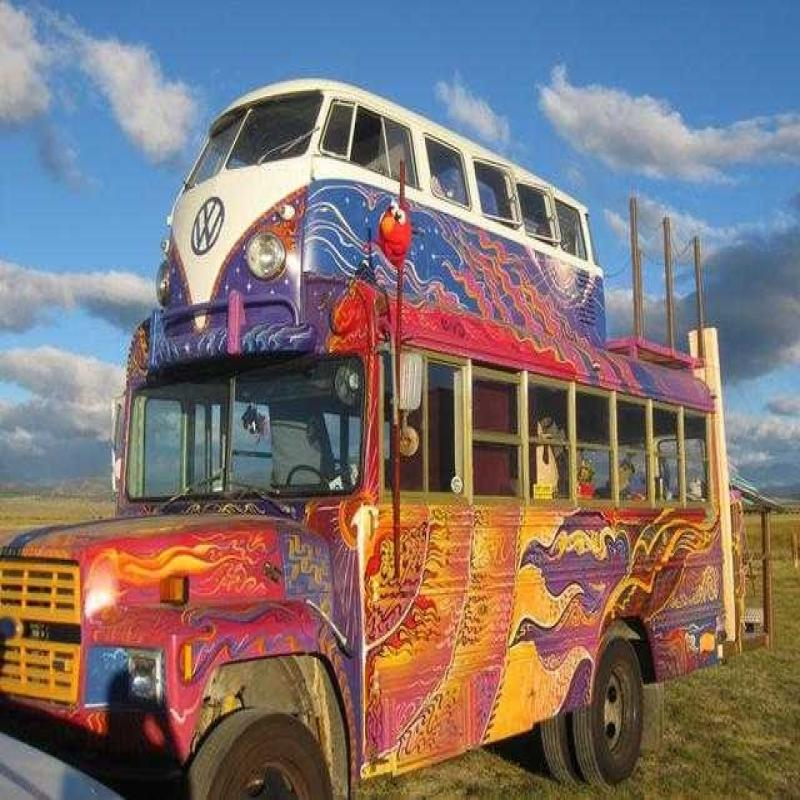bus: (96, 72, 756, 795)
